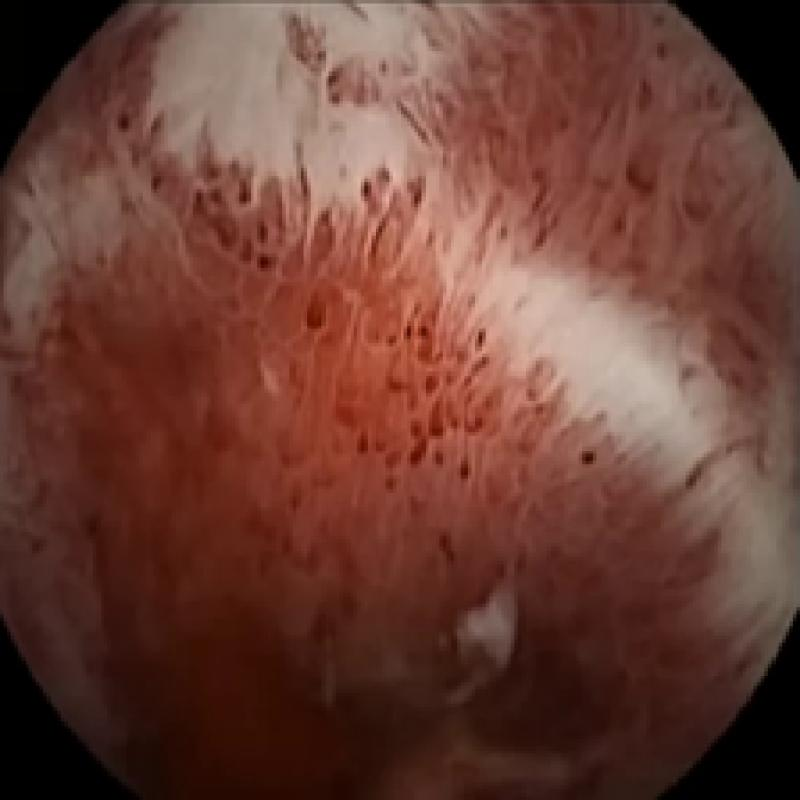bleeding: (36, 18, 779, 793)
